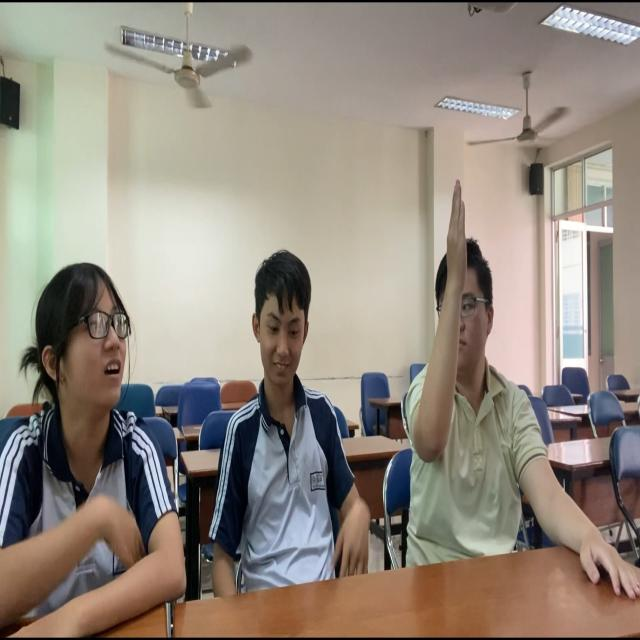raise_hand: (394, 170, 546, 516)
